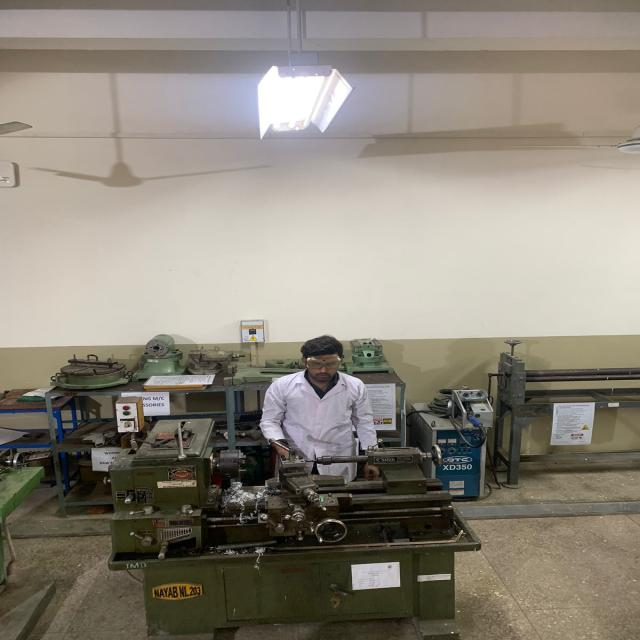googles: (300, 353, 342, 371)
labcoat: (258, 366, 378, 485)
